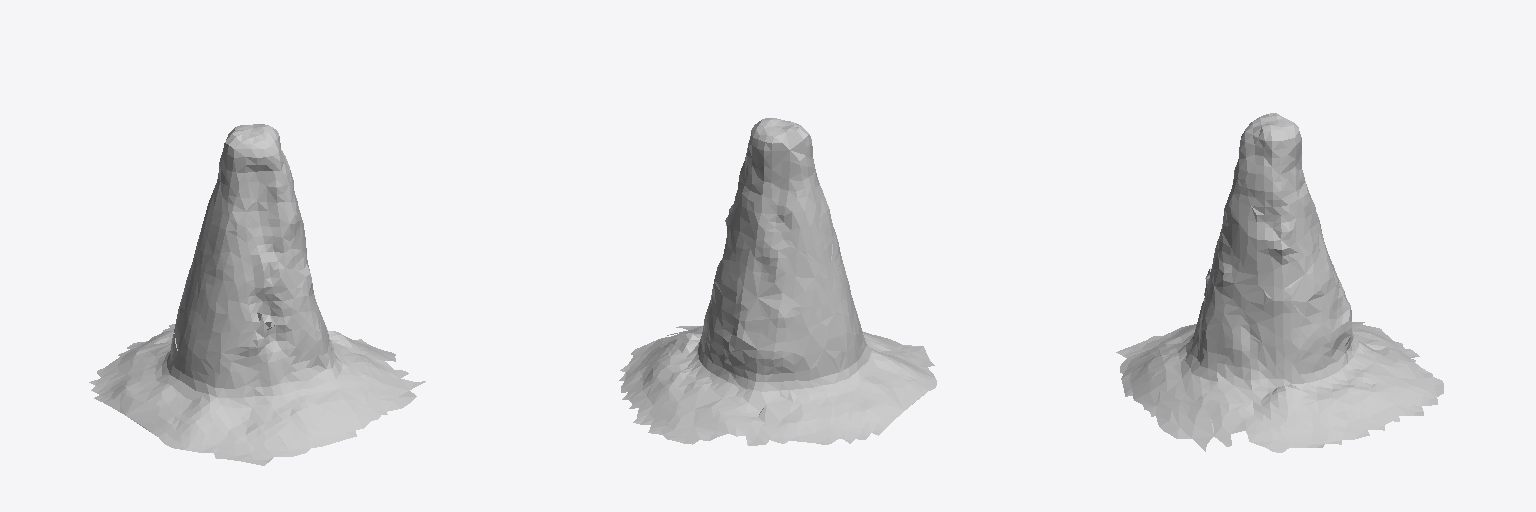
Rendered from podstavec.obj.
The picture shows the model from 3 angles: view 1: azimuth 30°, elevation 25°; view 2: azimuth 150°, elevation 25°; view 3: azimuth 270°, elevation 25°; orthographic projection.
Parts seen in each view (by area): view 1: Mesh_0; view 2: Mesh_0; view 3: Mesh_0.
Boxes of the visible parts, <box> form: Mesh_0: <box>89,124,425,465</box>; Mesh_0: <box>619,118,936,445</box>; Mesh_0: <box>1116,113,1443,452</box>.
Bounding box in the file's own units: 0.0838 × 0.0774 × 0.0871.